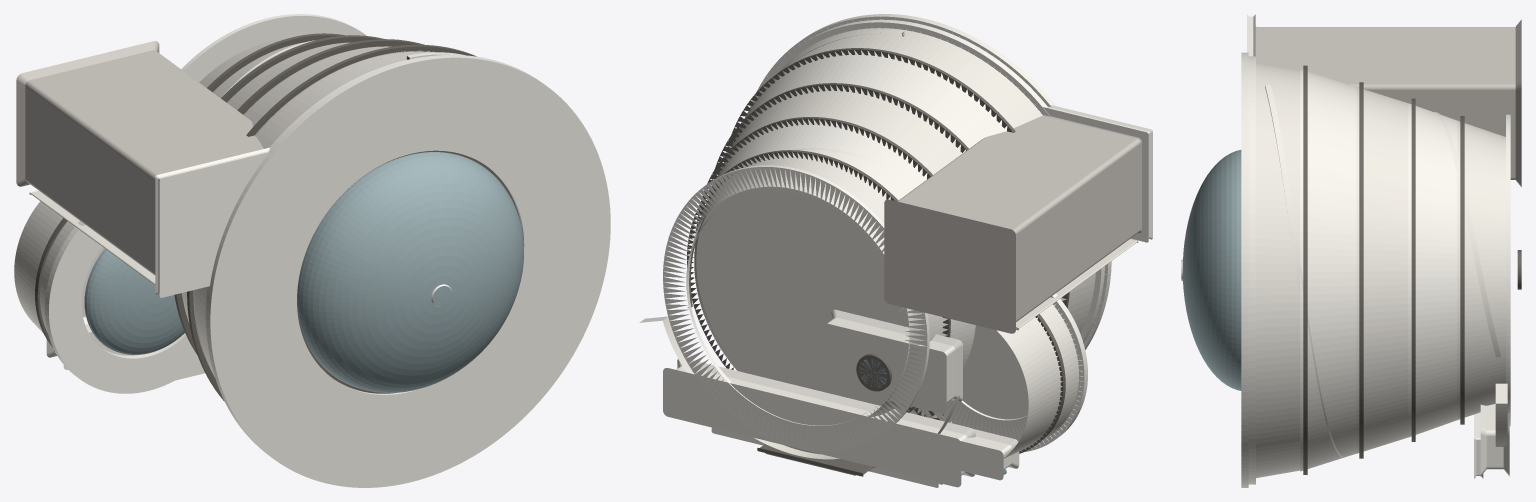
Rendered from guggenheim-museum.glb.
3 views of the same model, side by side, from view 1: azimuth 30°, elevation 25°; view 2: azimuth 150°, elevation 25°; view 3: azimuth 270°, elevation 25° (orthographic). The views are drawn at different scales.
Visible parts, largest first — view 1: main roof upper rim, main glazed oculus dome, annex tower, annex top cap, small rotunda roof rim, small rotunda skylight, small rotunda body, main rotunda base lip, main rotunda tier 5, main rotunda shadow groove 4, main rotunda tier 4, main rotunda shadow groove 3 (+8 smaller); view 2: annex tower, main rotunda tier 1, main entrance podium, main rotunda base lip, small rotunda body, low connecting gallery, main rotunda tier 4, main rotunda tier 5, main rotunda tier 3, main rotunda tier 2, main roof deck rim, main roof upper rim (+14 smaller); view 3: main rotunda tier 4, annex tower, main rotunda tier 3, main rotunda tier 5, main rotunda tier 2, main rotunda tier 1, main glazed oculus dome, main roof upper rim, main roof deck rim, visible continuous spiral cream edge, main rotunda shadow groove 4, main rotunda shadow groove 3 (+6 smaller).
Part boxes in pixels (box(x1,y1,x2,y2)): main roof upper rim: box(206, 55, 610, 487); main glazed oculus dome: box(297, 152, 523, 392); annex tower: box(16, 41, 263, 275); annex top cap: box(155, 147, 269, 297); small rotunda roof rim: box(45, 221, 200, 393); small rotunda skylight: box(84, 248, 184, 354); small rotunda body: box(14, 201, 104, 333); main rotunda base lip: box(181, 14, 366, 81); main rotunda tier 5: box(194, 51, 434, 376); main rotunda shadow groove 4: box(187, 44, 476, 401); main rotunda tier 4: box(182, 46, 433, 364); main rotunda shadow groove 3: box(174, 39, 424, 354); annex tower: box(884, 115, 1141, 333); main rotunda tier 1: box(694, 153, 947, 417); main entrance podium: box(663, 359, 975, 487); main rotunda base lip: box(663, 165, 929, 450); small rotunda body: box(893, 304, 1080, 461); low connecting gallery: box(815, 309, 962, 413); main rotunda tier 4: box(732, 50, 1066, 418); main rotunda tier 5: box(769, 27, 1096, 338); main rotunda tier 3: box(719, 86, 965, 417); main rotunda tier 2: box(704, 119, 975, 415); main roof deck rim: box(750, 19, 1104, 349); main roof upper rim: box(749, 14, 1111, 355); main rotunda tier 4: box(1300, 69, 1356, 471); annex tower: box(1255, 19, 1521, 187); main rotunda tier 3: box(1356, 87, 1408, 453); main rotunda tier 5: box(1256, 62, 1300, 478); main rotunda tier 2: box(1408, 103, 1456, 437); main rotunda tier 1: box(1457, 120, 1505, 420); main glazed oculus dome: box(1183, 150, 1241, 390); main roof upper rim: box(1241, 52, 1248, 487); main roof deck rim: box(1248, 56, 1255, 484); visible continuous spiral cream edge: box(1265, 85, 1501, 457); main rotunda shadow groove 4: box(1303, 65, 1307, 474); main rotunda shadow groove 3: box(1359, 82, 1363, 458).
Size of the model in its own units: 23.58 by 20.16 by 15.76.
